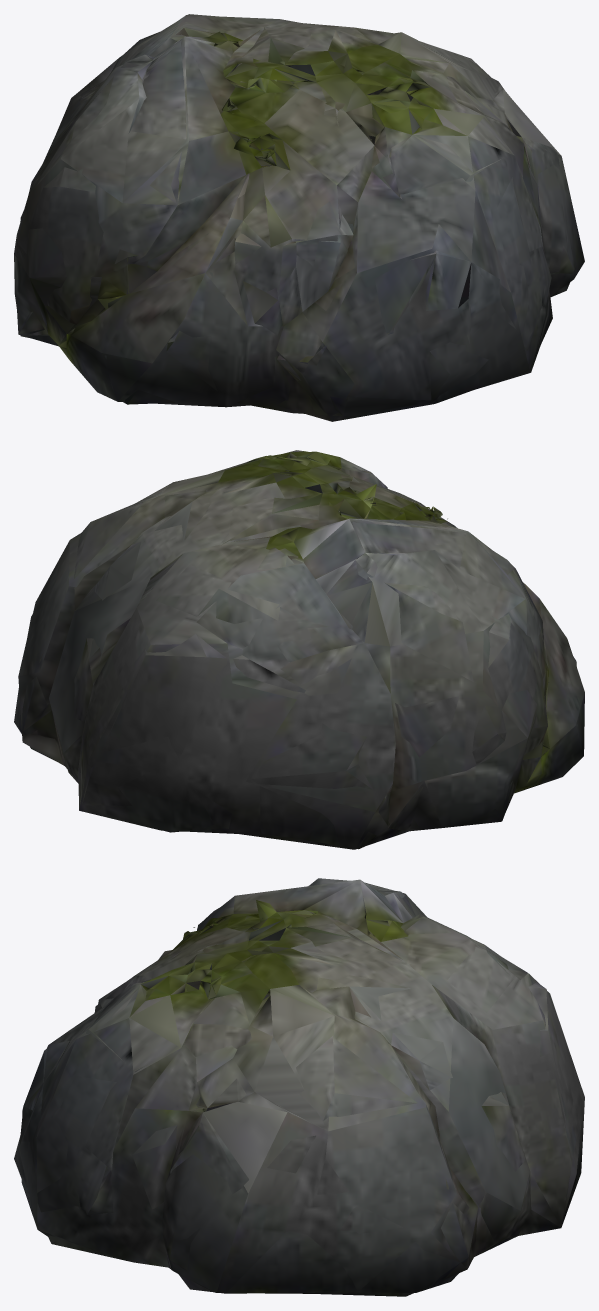
File: rock-1.glb
The picture shows the model from 3 angles, top to bottom: view 1: azimuth 30°, elevation 25°; view 2: azimuth 150°, elevation 25°; view 3: azimuth 270°, elevation 25°; orthographic projection.
Parts seen in each view (by area): view 1: terrain-rock-1; view 2: terrain-rock-1; view 3: terrain-rock-1.
Boxes of the visible parts, <box> form: terrain-rock-1: <box>14,14,584,421</box>; terrain-rock-1: <box>14,450,584,849</box>; terrain-rock-1: <box>14,878,584,1296</box>.
Bounding box in the file's own units: 0.1964 × 0.1018 × 0.1935.
1 material, 1 textured.
